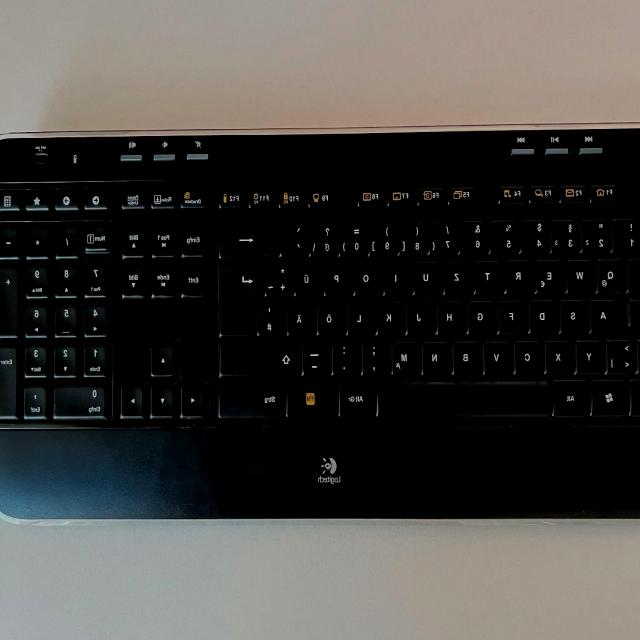0: (340, 219, 366, 256)
1: (613, 214, 640, 251)
2: (582, 216, 610, 252)
3: (552, 215, 580, 252)
4: (521, 216, 549, 252)
5: (491, 216, 519, 252)
6: (460, 217, 488, 253)
7: (429, 217, 457, 254)
8: (399, 218, 427, 256)
9: (370, 218, 396, 256)
a: (591, 295, 619, 332)
accent: (281, 219, 307, 255)
ae: (289, 299, 315, 334)
alt-left: (553, 376, 591, 416)
altgr-right: (340, 376, 376, 416)
b: (454, 337, 481, 373)
c: (515, 336, 543, 373)
caret: (628, 213, 640, 251)
comma: (364, 338, 390, 374)
d: (531, 296, 557, 332)
del: (219, 218, 278, 256)
e: (537, 255, 565, 292)
enter: (220, 259, 263, 335)
f: (500, 296, 526, 332)
g: (469, 296, 496, 332)
h: (439, 296, 465, 332)
hash: (259, 298, 285, 334)
i: (385, 258, 411, 292)
j: (408, 296, 434, 332)
k: (378, 297, 404, 333)
keyboard: (0, 128, 640, 437)
l: (348, 298, 374, 333)
less: (608, 336, 636, 373)
m: (393, 337, 420, 373)
minus: (304, 338, 330, 373)
n: (423, 337, 451, 373)
o: (355, 259, 381, 294)
oe: (318, 299, 344, 333)
p: (326, 260, 352, 294)
plus: (266, 259, 293, 295)
point: (333, 338, 359, 374)
q: (597, 254, 626, 291)
r: (506, 256, 534, 292)
s: (561, 296, 589, 332)
shift-left: (625, 336, 640, 373)
shift-lock: (615, 294, 640, 332)
shift-right: (221, 338, 301, 374)
space: (378, 376, 554, 416)
ss: (311, 220, 337, 256)
strg-left: (619, 375, 640, 417)
strg-right: (218, 377, 286, 417)
t: (477, 256, 503, 291)
tab: (621, 255, 640, 291)
u: (415, 258, 441, 293)
ue: (296, 259, 322, 294)
v: (484, 337, 512, 373)
w: (567, 255, 595, 292)
x: (547, 336, 574, 372)
y: (577, 336, 605, 372)
z: (445, 257, 472, 293)
